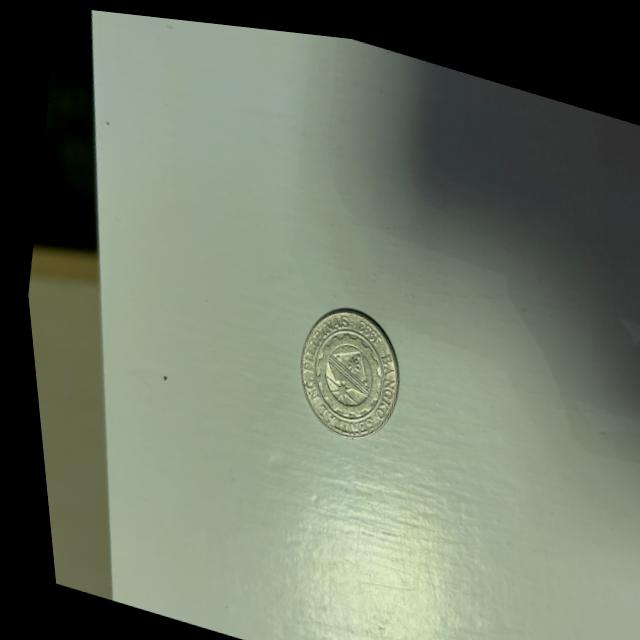1_Old_Back: (293, 306, 392, 426)
